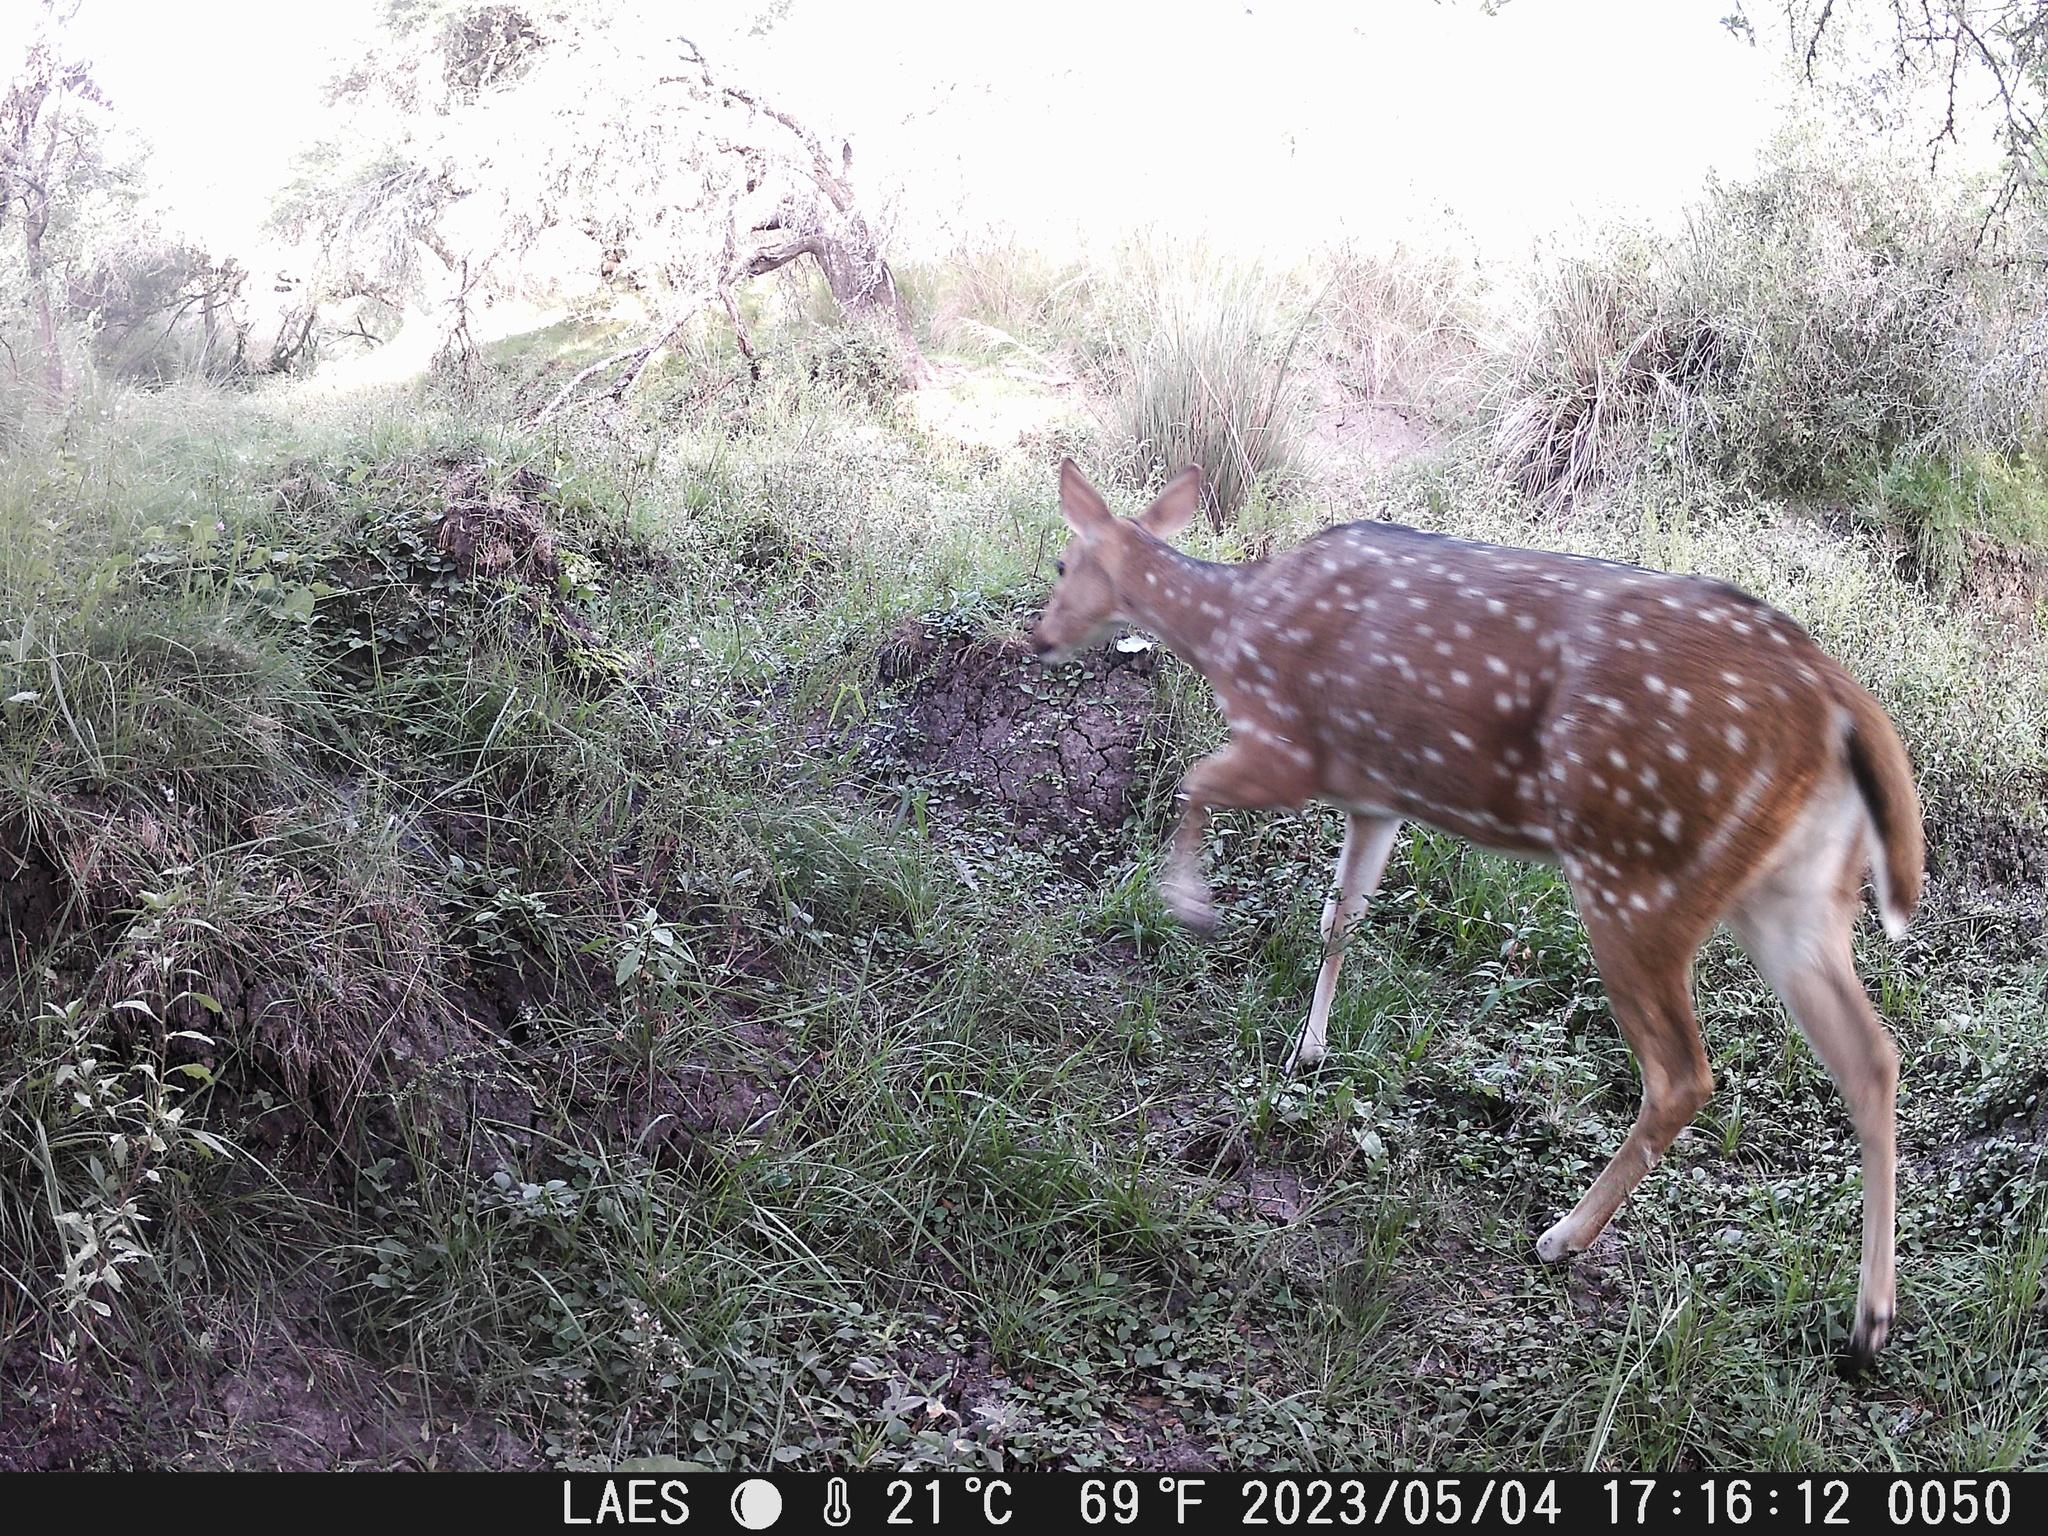Deer: (1034, 458, 1922, 1365)
